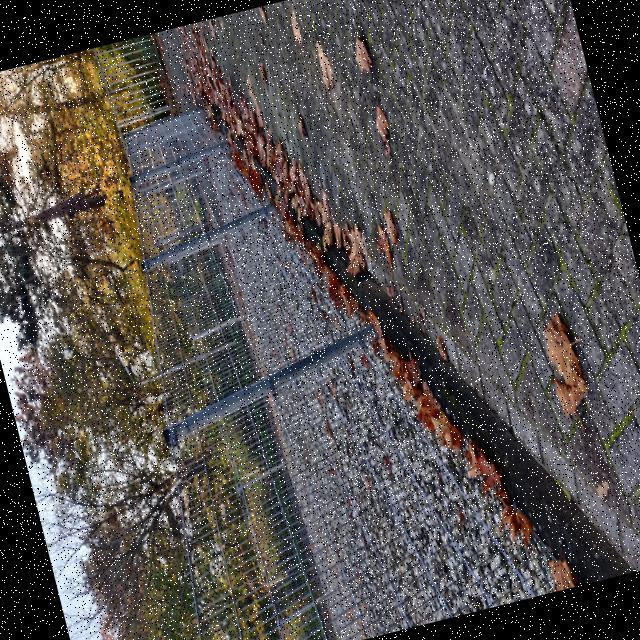fence line: (139, 292, 521, 639), (84, 25, 394, 452)
